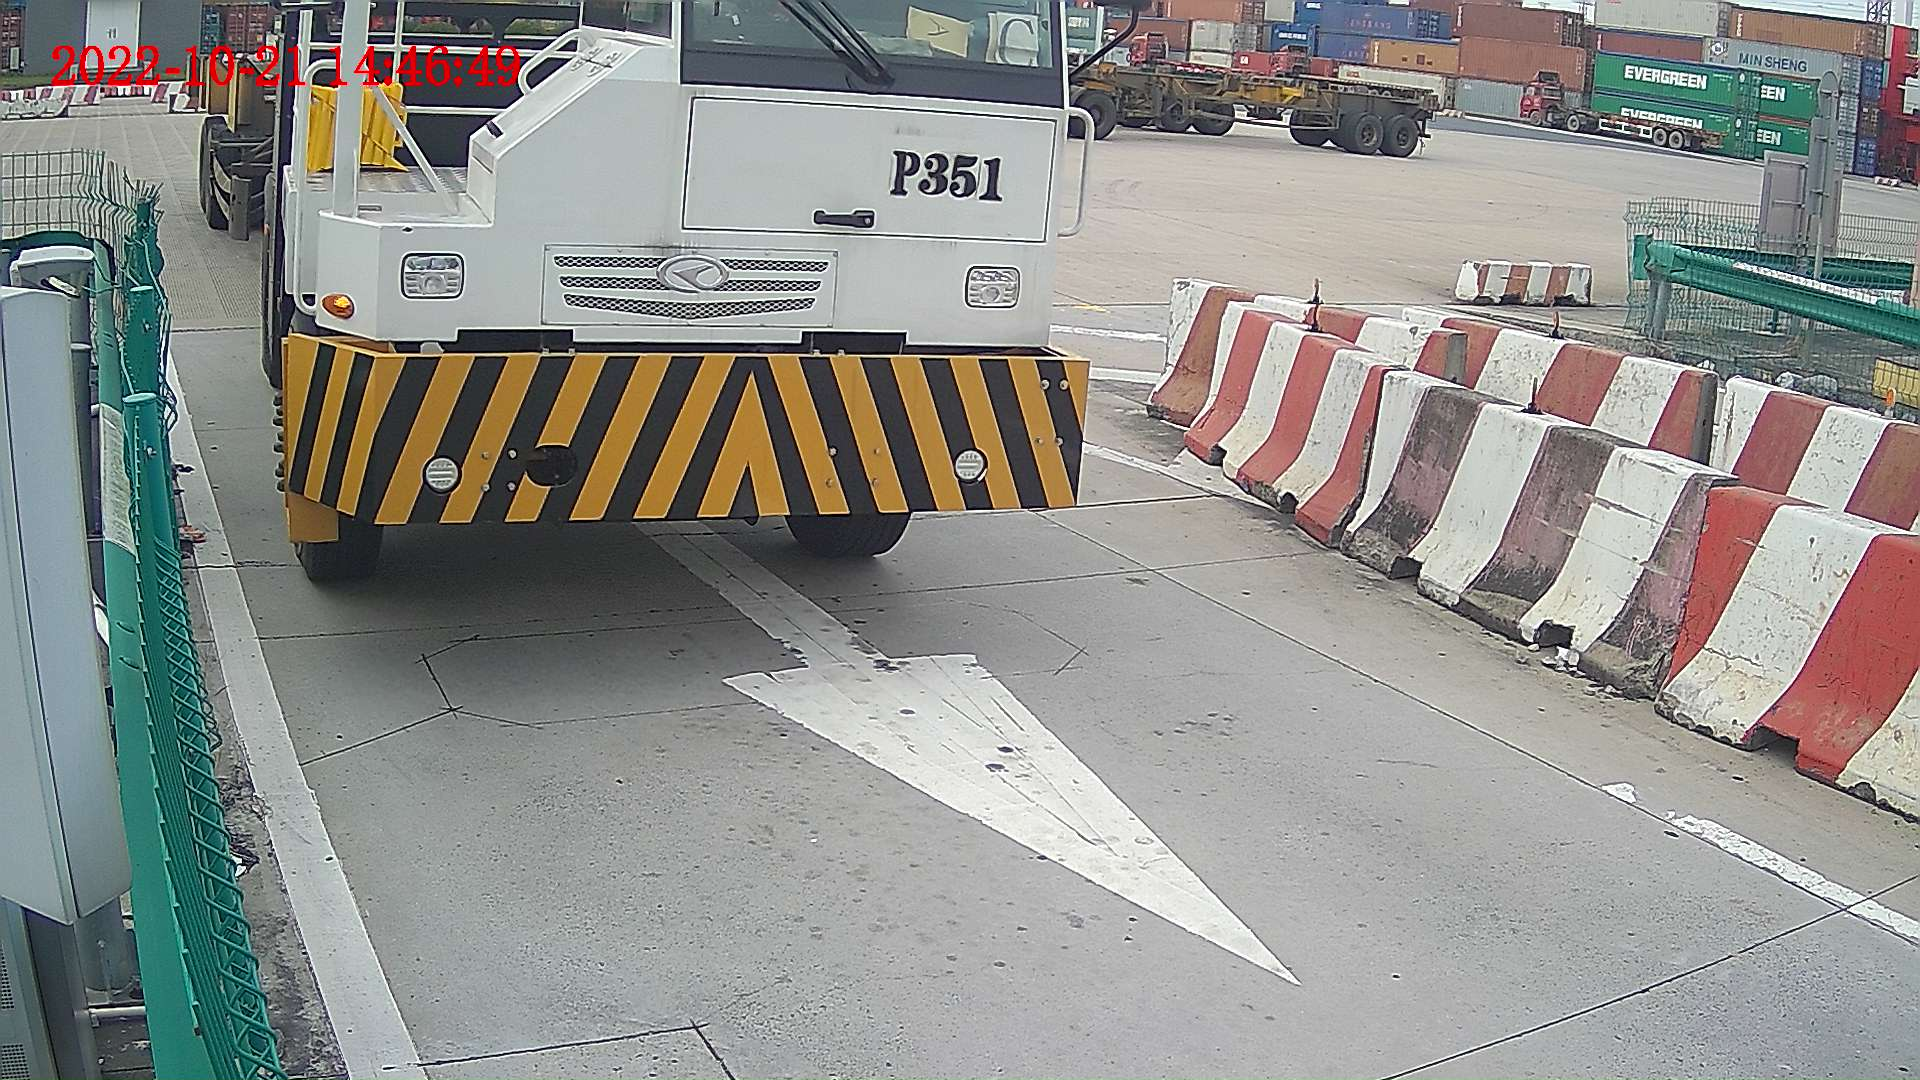head: (262, 1, 1092, 586)
